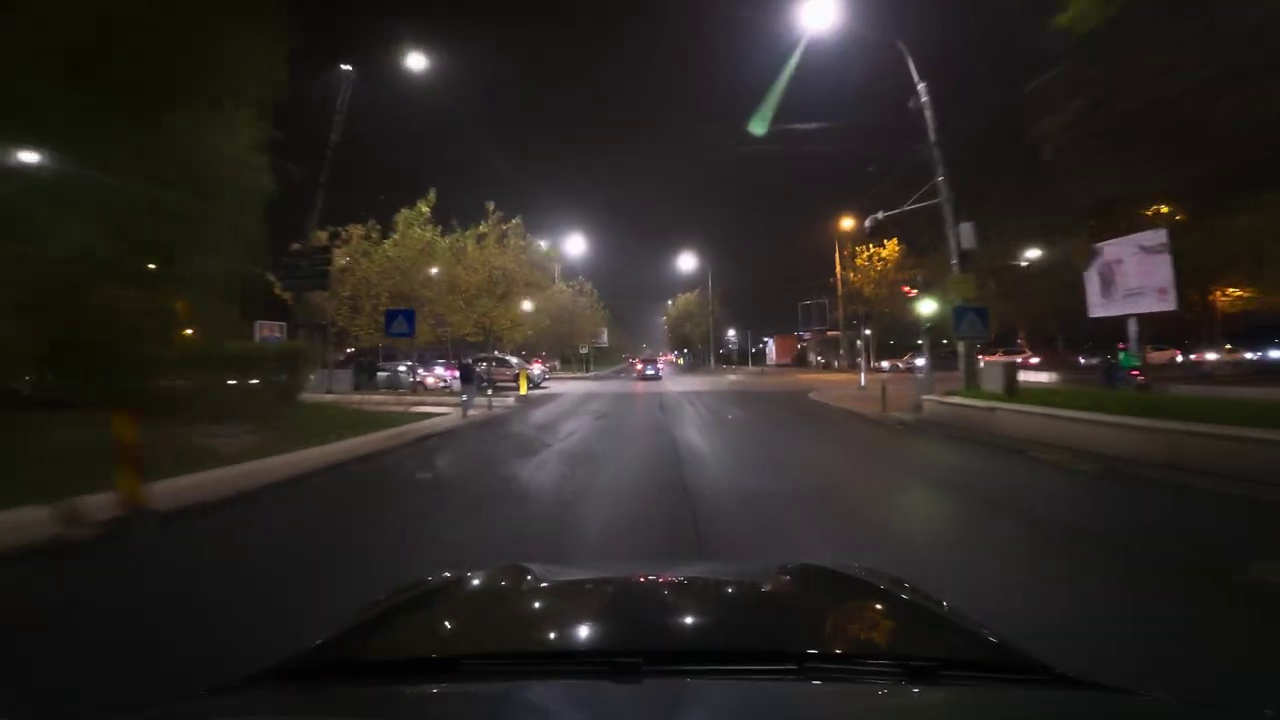acesa: (801, 3, 841, 31), (401, 47, 431, 75), (561, 231, 589, 259), (673, 248, 700, 275), (1016, 244, 1044, 269), (913, 296, 941, 320), (835, 212, 858, 234)
